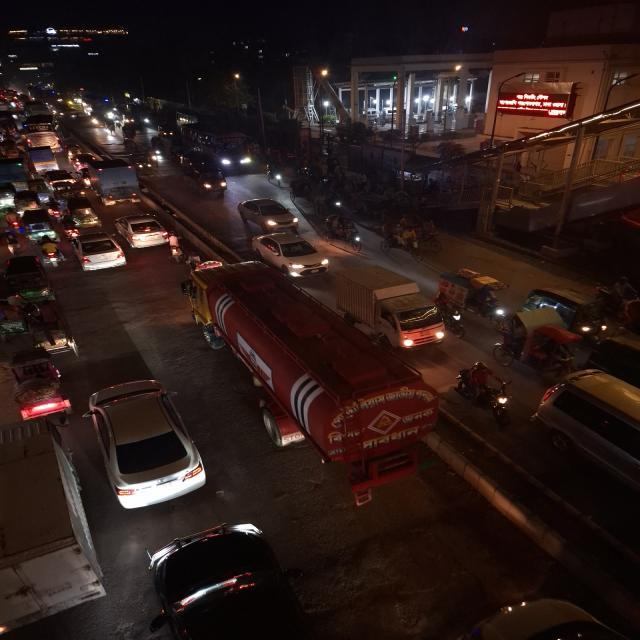bus: (205, 126, 256, 172), (20, 115, 66, 149)
car: (121, 520, 319, 640), (82, 376, 207, 512), (534, 372, 640, 524), (250, 232, 330, 280), (68, 232, 128, 274), (236, 196, 301, 233), (112, 211, 173, 249), (183, 164, 228, 199), (41, 168, 75, 188), (71, 152, 101, 170)
cng: (524, 283, 612, 341), (20, 208, 56, 242), (65, 197, 101, 227), (13, 188, 40, 210), (133, 151, 156, 173), (0, 181, 17, 208)
motorcycle: (452, 360, 515, 424), (162, 232, 190, 264), (37, 237, 65, 267), (265, 161, 287, 189), (58, 214, 80, 240), (2, 231, 22, 257), (2, 207, 22, 233), (79, 167, 95, 190)
rickshaw: (499, 310, 584, 378), (1, 350, 76, 427), (438, 268, 511, 330), (25, 305, 83, 359), (379, 215, 444, 260), (2, 255, 53, 302), (322, 213, 365, 251), (0, 297, 28, 343)
truck: (182, 264, 440, 510), (1, 444, 112, 639), (331, 262, 446, 350), (89, 162, 145, 205), (0, 156, 29, 188), (25, 145, 60, 171)
